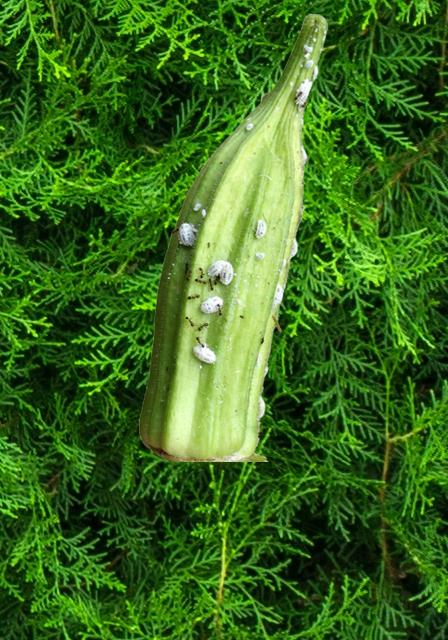okra: (139, 14, 327, 460)
